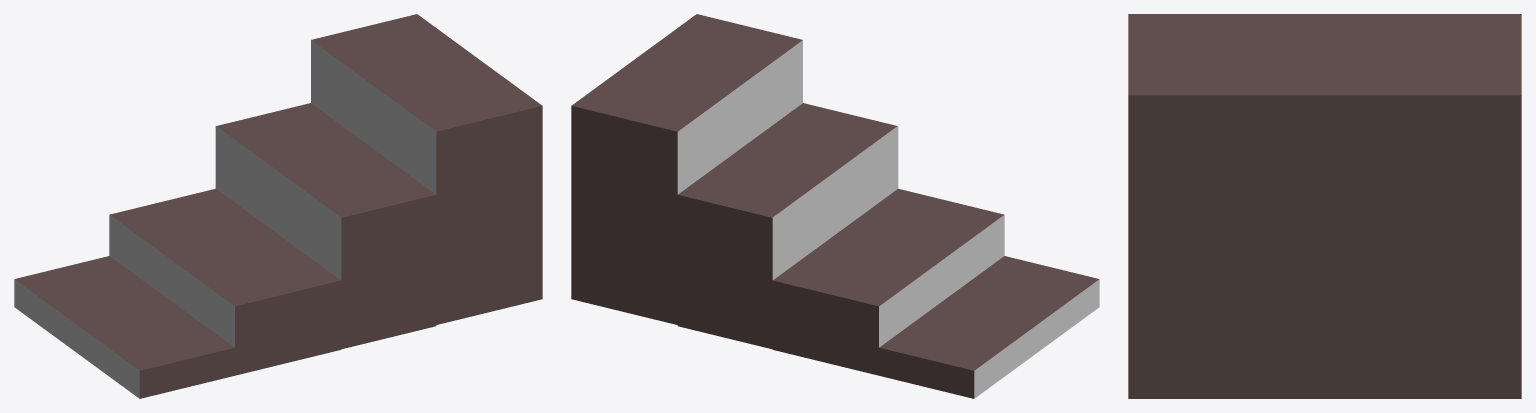
File: staires.fbx
3 renders of one model, left to right at view 1: azimuth 30°, elevation 25°; view 2: azimuth 150°, elevation 25°; view 3: azimuth 270°, elevation 25°, orthographic. The views are drawn at different scales.
Parts seen in each view (by area): view 1: imagetostl_mesh2, imagetostl_mesh9, imagetostl_mesh11, imagetostl_mesh7, imagetostl_mesh20, imagetostl_mesh8, imagetostl_mesh3, imagetostl_mesh6, imagetostl_mesh15, imagetostl_mesh13, imagetostl_mesh17, imagetostl_mesh18; view 2: imagetostl_mesh0, imagetostl_mesh9, imagetostl_mesh11, imagetostl_mesh5, imagetostl_mesh20, imagetostl_mesh8, imagetostl_mesh3, imagetostl_mesh6, imagetostl_mesh10, imagetostl_mesh13, imagetostl_mesh17, imagetostl_mesh19; view 3: imagetostl_mesh4, imagetostl_mesh9.
Boxes of the visible parts, left/top/right/bottom form: imagetostl_mesh2: left=436, top=106, right=542, bottom=324; imagetostl_mesh9: left=311, top=14, right=542, bottom=131; imagetostl_mesh11: left=110, top=188, right=340, bottom=306; imagetostl_mesh7: left=341, top=195, right=436, bottom=349; imagetostl_mesh20: left=14, top=256, right=234, bottom=370; imagetostl_mesh8: left=217, top=103, right=435, bottom=217; imagetostl_mesh3: left=311, top=40, right=436, bottom=194; imagetostl_mesh6: left=215, top=126, right=341, bottom=279; imagetostl_mesh15: left=235, top=280, right=341, bottom=375; imagetostl_mesh13: left=109, top=215, right=234, bottom=347; imagetostl_mesh17: left=14, top=279, right=139, bottom=398; imagetostl_mesh18: left=139, top=347, right=234, bottom=398; imagetostl_mesh0: left=571, top=106, right=677, bottom=324; imagetostl_mesh9: left=571, top=14, right=802, bottom=131; imagetostl_mesh11: left=773, top=188, right=1003, bottom=306; imagetostl_mesh5: left=677, top=195, right=772, bottom=349; imagetostl_mesh20: left=879, top=256, right=1099, bottom=370; imagetostl_mesh8: left=678, top=103, right=896, bottom=217; imagetostl_mesh3: left=677, top=40, right=802, bottom=194; imagetostl_mesh6: left=772, top=126, right=898, bottom=279; imagetostl_mesh10: left=772, top=280, right=878, bottom=375; imagetostl_mesh13: left=879, top=215, right=1004, bottom=347; imagetostl_mesh17: left=974, top=279, right=1099, bottom=398; imagetostl_mesh19: left=879, top=347, right=974, bottom=398; imagetostl_mesh4: left=1128, top=95, right=1521, bottom=398; imagetostl_mesh9: left=1128, top=14, right=1521, bottom=95.
Bounding box in the file's own units: 19600 × 9063 × 10569.
